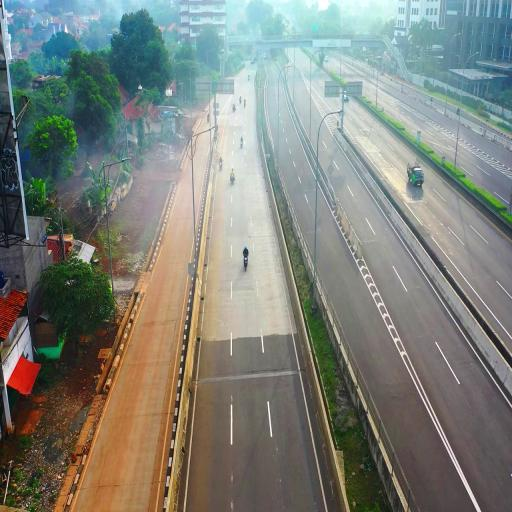vehicle: (407, 164, 424, 194)
